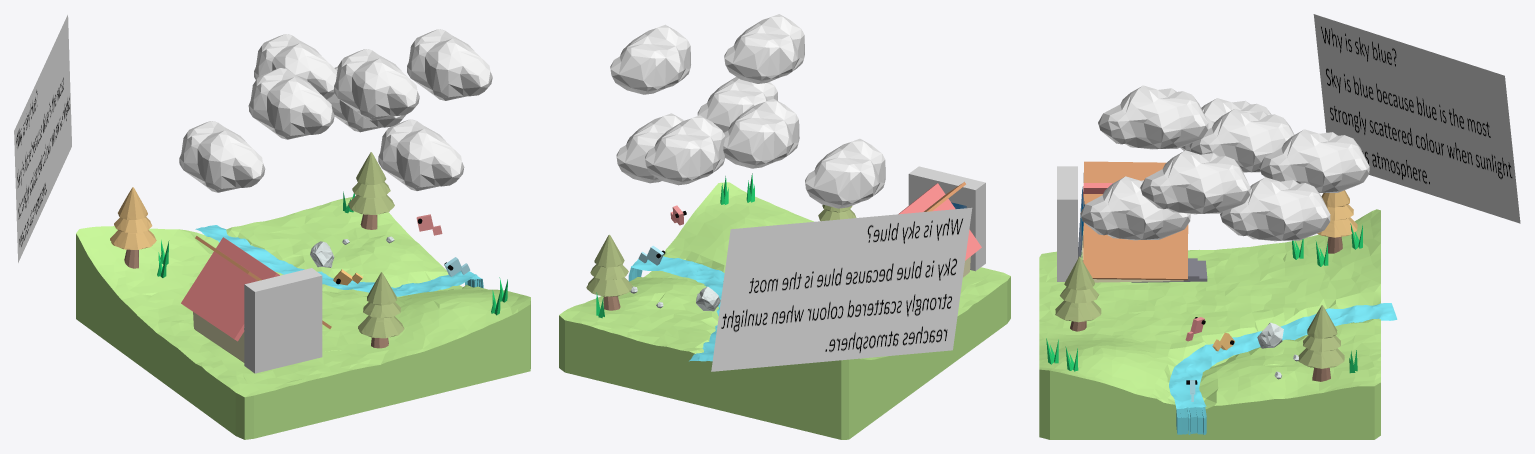
File: cloud2.glb
3 views of the same model, side by side, from view 1: azimuth 30°, elevation 25°; view 2: azimuth 150°, elevation 25°; view 3: azimuth 270°, elevation 25° (orthographic).
Parts seen in each view (by area): view 1: terrain, pPlane2, Cube, house:pCube6, pPlatonic1.003, clouds:pPlatonic1.002, pPlatonic1.001, pPlatonic1, pPlatonic1.002, clouds:pPlatonic1, water, clouds:pPlatonic1.001 (+7 smaller); view 2: terrain, pPlane2, pPlatonic1.002, pPlatonic1, clouds:pPlatonic1.002, clouds:pPlatonic1, pPlatonic1.001, Cube, pPlatonic1.003, water, clouds:pPlatonic1.001, house:pCube6 (+4 smaller); view 3: terrain, pPlane2, house:pCube5, pPlatonic1, clouds:pPlatonic1.002, clouds:pPlatonic1.001, clouds:pPlatonic1, water, pPlatonic1.003, pPlatonic1.001, Cube, pPlatonic1.002 (+8 smaller).
Part boxes in pixels (left/top/right/bottom): terrain: left=76, top=197, right=530, bottom=439; pPlane2: left=14, top=15, right=71, bottom=262; Cube: left=244, top=268, right=322, bottom=373; house:pCube6: left=181, top=237, right=279, bottom=341; pPlatonic1.003: left=378, top=119, right=464, bottom=190; clouds:pPlatonic1.002: left=407, top=29, right=492, bottom=100; pPlatonic1.001: left=248, top=68, right=334, bottom=139; pPlatonic1: left=334, top=49, right=419, bottom=120; pPlatonic1.002: left=179, top=121, right=265, bottom=192; clouds:pPlatonic1: left=254, top=34, right=336, bottom=99; water: left=195, top=225, right=483, bottom=296; clouds:pPlatonic1.001: left=327, top=66, right=405, bottom=132; terrain: left=559, top=182, right=1010, bottom=439; pPlane2: left=711, top=207, right=972, bottom=371; pPlatonic1.002: left=805, top=138, right=885, bottom=208; pPlatonic1: left=724, top=14, right=804, bottom=83; clouds:pPlatonic1.002: left=610, top=24, right=690, bottom=94; clouds:pPlatonic1: left=645, top=115, right=725, bottom=185; pPlatonic1.001: left=723, top=98, right=799, bottom=168; Cube: left=908, top=166, right=985, bottom=271; pPlatonic1.003: left=697, top=77, right=777, bottom=132; water: left=628, top=256, right=724, bottom=361; clouds:pPlatonic1.001: left=616, top=113, right=683, bottom=183; house:pCube6: left=898, top=183, right=981, bottom=260; terrain: left=1039, top=209, right=1380, bottom=439; pPlane2: left=1313, top=14, right=1520, bottom=223; house:pCube5: left=1083, top=161, right=1188, bottom=280; pPlatonic1: left=1098, top=85, right=1208, bottom=149; clouds:pPlatonic1.002: left=1140, top=150, right=1250, bottom=214; clouds:pPlatonic1.001: left=1220, top=177, right=1330, bottom=241; clouds:pPlatonic1: left=1259, top=129, right=1369, bottom=192; water: left=1169, top=303, right=1397, bottom=434; pPlatonic1.003: left=1080, top=176, right=1190, bottom=240; pPlatonic1.001: left=1189, top=108, right=1294, bottom=172; Cube: left=1057, top=166, right=1077, bottom=281; pPlatonic1.002: left=1180, top=98, right=1271, bottom=151.
Size of the model in its own units: 0.4675 by 0.3333 by 0.4738.
Materials: 31 (2 with a texture image).
